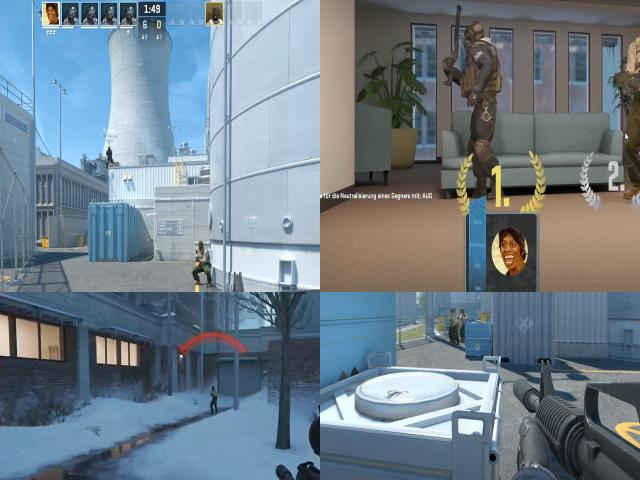CT: (457, 14, 507, 129), (106, 146, 114, 167)
CT-Head: (461, 16, 486, 48), (107, 146, 111, 150)
T: (623, 1, 640, 123), (192, 239, 213, 285), (210, 382, 218, 410), (452, 308, 458, 344), (461, 310, 467, 341), (449, 309, 452, 341), (460, 309, 462, 340)
T-Head: (197, 242, 206, 254), (453, 309, 456, 314), (462, 310, 465, 314), (450, 309, 452, 313), (460, 309, 462, 313)
